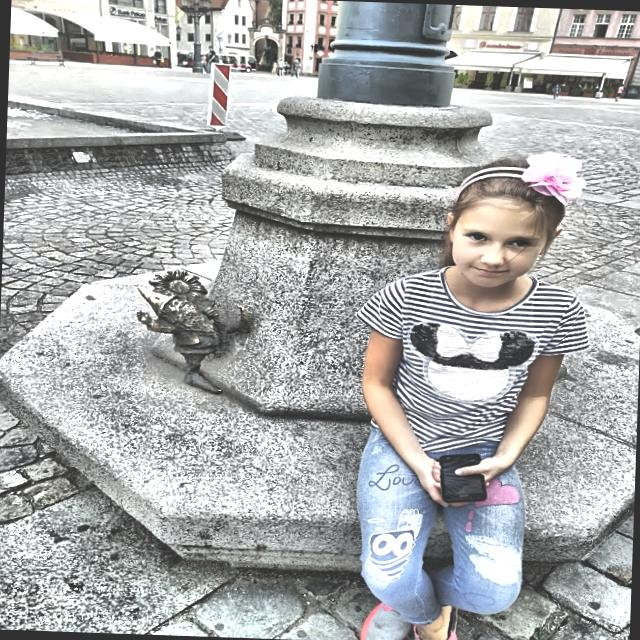Zyczliwek: (137, 270, 250, 392)
